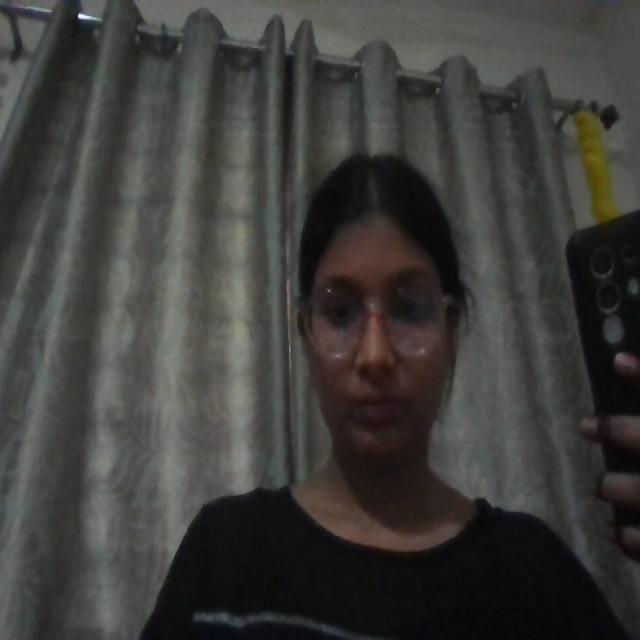phone: (566, 211, 639, 415), (604, 445, 639, 471)
